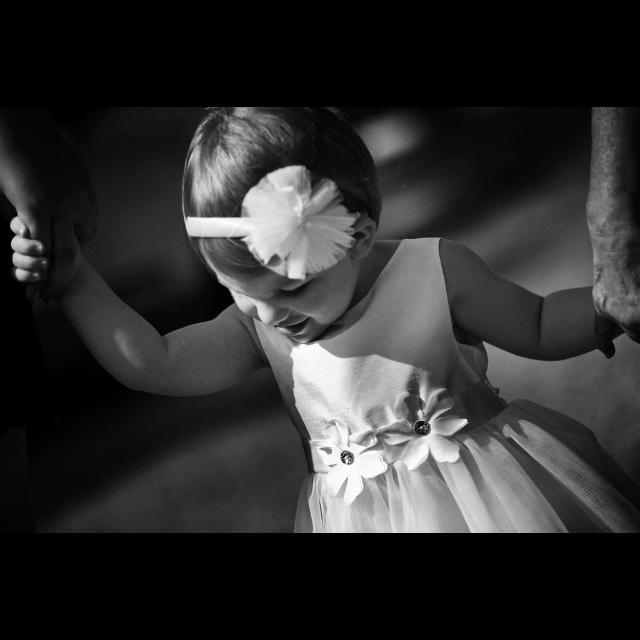Flower: (205, 156, 371, 278), (379, 389, 469, 473), (314, 418, 386, 506)
